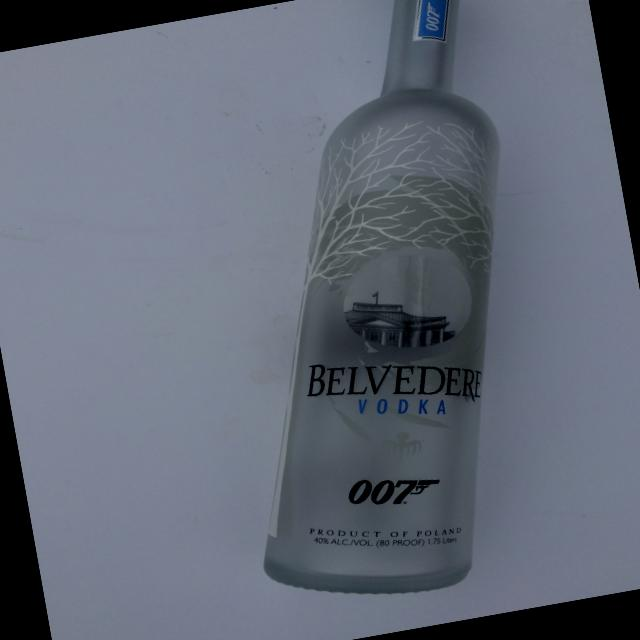Glass: (158, 0, 584, 624)
